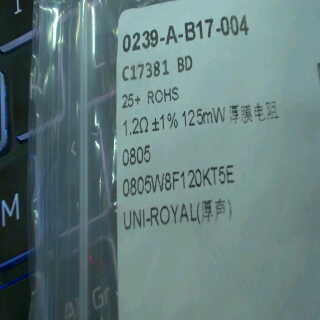1.2R: (120, 114, 152, 169)
